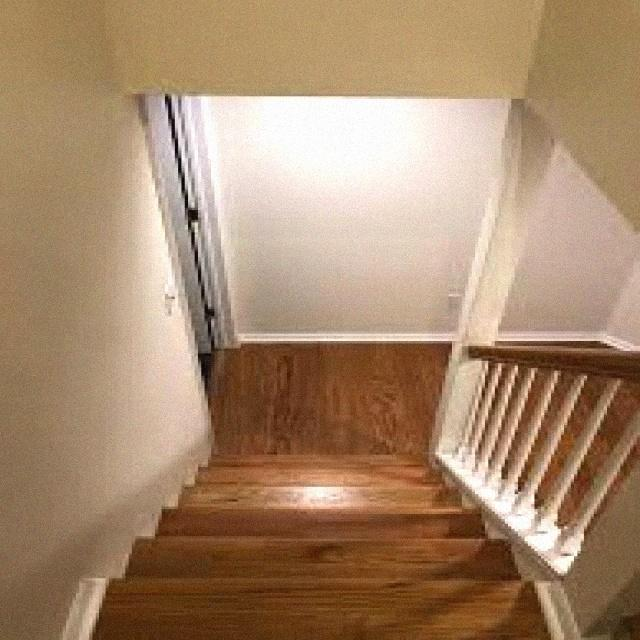stair: (41, 317, 640, 640)
